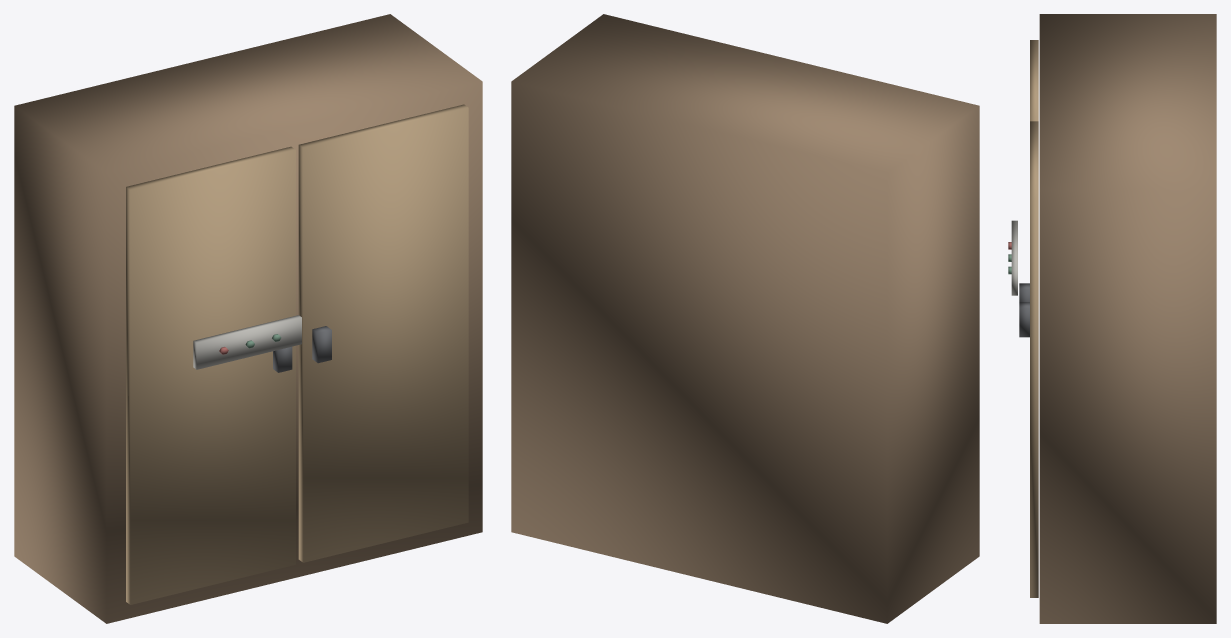
File: lab_reagent_cabinet__wide.glb
3 views of the same model, side by side, from view 1: azimuth 30°, elevation 25°; view 2: azimuth 150°, elevation 25°; view 3: azimuth 270°, elevation 25° (orthographic). The views are drawn at different scales.
Parts seen in each view (by area): view 1: world; view 2: world; view 3: world.
Boxes of the visible parts, box(x1,y1,x2,y2) form: world: box(14, 14, 482, 623); world: box(511, 14, 979, 623); world: box(1008, 14, 1216, 623).
Bounding box in the file's own units: 1.18 × 1.35 × 0.5885.
